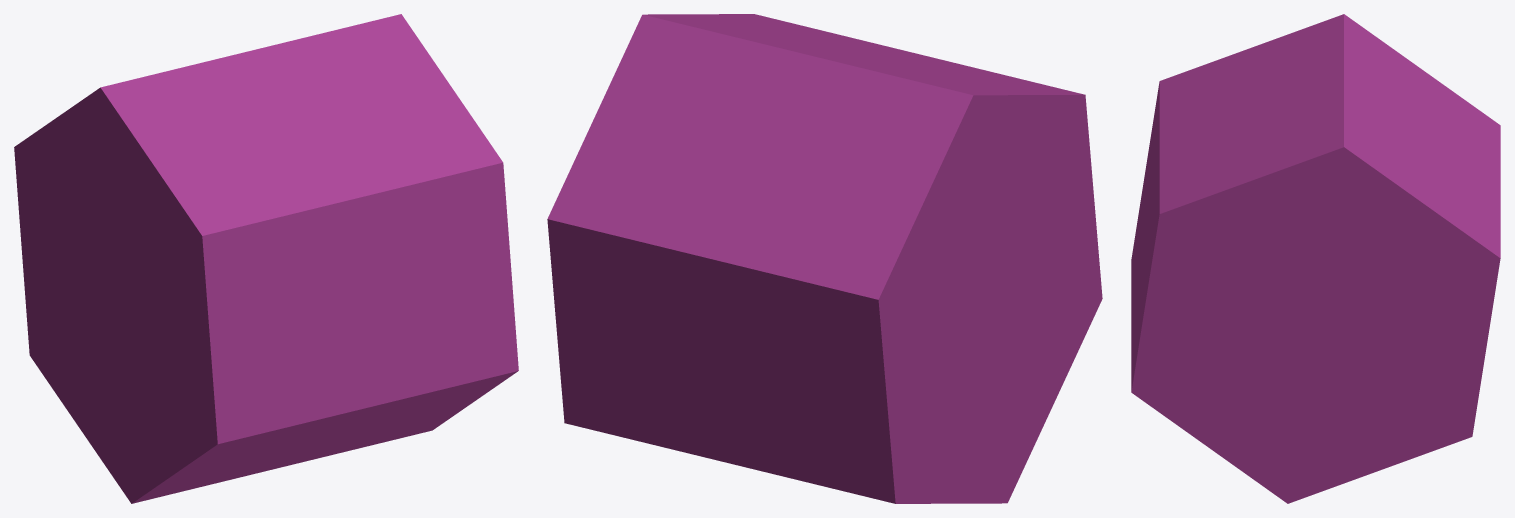
The model's file is SM_Veh_Trebuchet_01_Crank_01_Collision.fbx.
3 views of the same model, side by side, from view 1: azimuth 30°, elevation 25°; view 2: azimuth 150°, elevation 25°; view 3: azimuth 270°, elevation 25° (orthographic). The views are drawn at different scales.
Visible parts, largest first — view 1: SM_Veh_Trebuchet_01_Crank_01_Collision; view 2: SM_Veh_Trebuchet_01_Crank_01_Collision; view 3: SM_Veh_Trebuchet_01_Crank_01_Collision.
Part boxes in pixels (bbox=[...]): SM_Veh_Trebuchet_01_Crank_01_Collision: bbox=[14, 14, 518, 503]; SM_Veh_Trebuchet_01_Crank_01_Collision: bbox=[547, 14, 1102, 503]; SM_Veh_Trebuchet_01_Crank_01_Collision: bbox=[1131, 14, 1500, 503].
Size of the model in its own units: 69.27 by 86.58 by 81.17.
